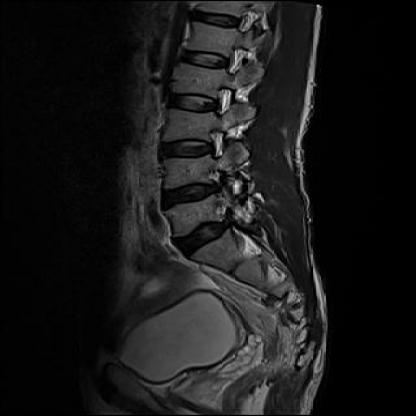Disc Bulgerotation: (169, 216, 246, 249)
